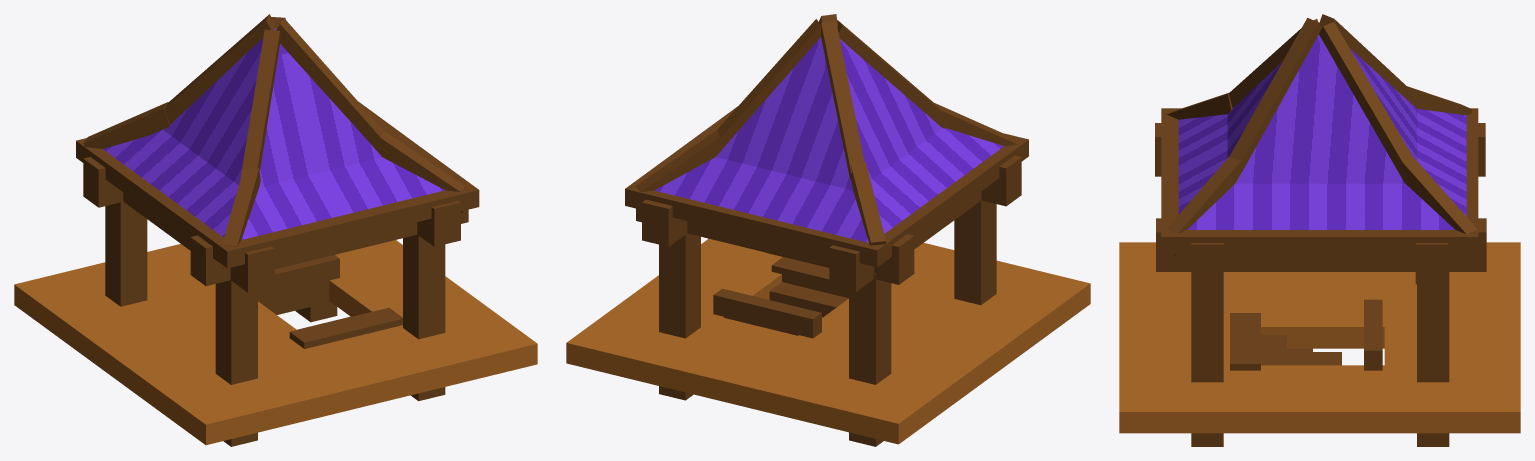
File: 1x1x5_archer.fbx
3 views of the same model, side by side, from view 1: azimuth 30°, elevation 25°; view 2: azimuth 150°, elevation 25°; view 3: azimuth 270°, elevation 25° (orthographic). The views are drawn at different scales.
Parts seen in each view (by area): view 1: polySurface55; view 2: polySurface55; view 3: polySurface55.
Boxes of the visible parts, x1,y1,x2,y2 form: polySurface55: [14, 14, 537, 446]; polySurface55: [566, 14, 1090, 446]; polySurface55: [1119, 14, 1520, 446].
Bounding box in the file's own units: 91.53 × 94.04 × 91.53.
1 material, 1 textured.
